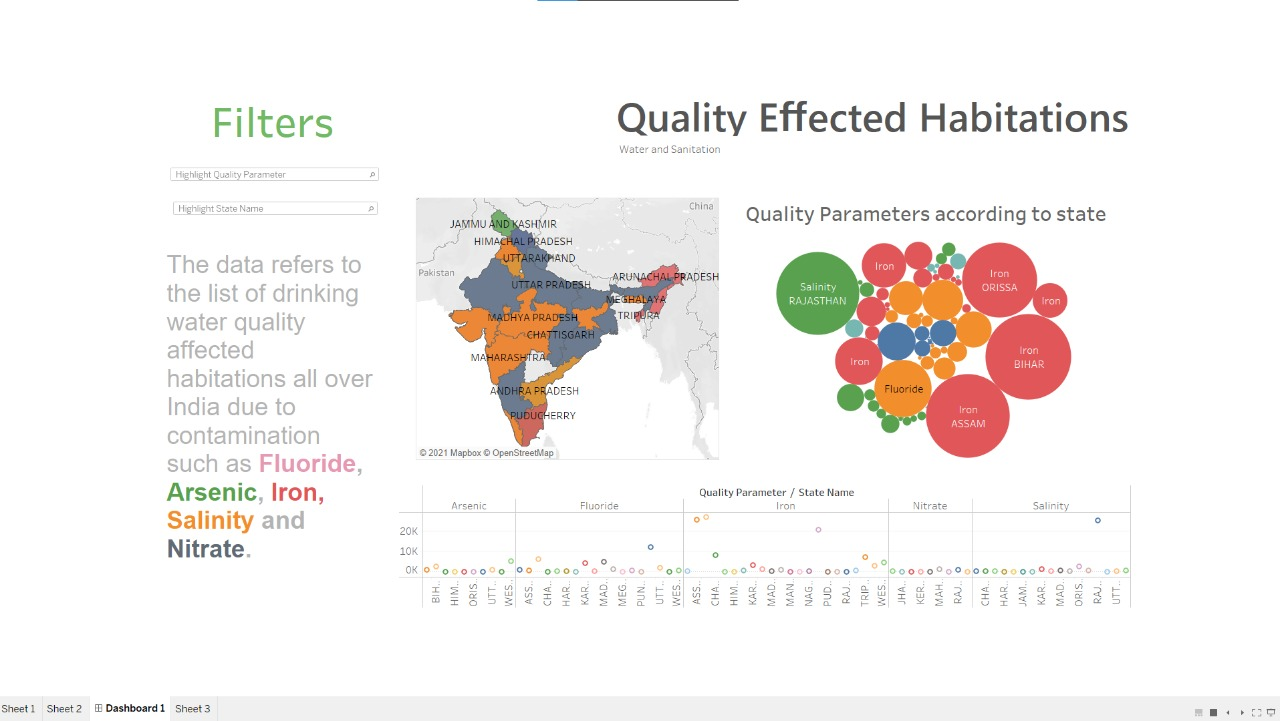

The page's visual inventory and layout, read from the dashboard file:
{"tool":"tableau","page":{"name":"Dashboard 1","canvas":[1500,800],"ordinal":0},"visuals":[{"type":"worksheet","box":[0,0,1500,800]},{"type":"worksheet","param":"horz","box":[8,8,1484,784]},{"type":"worksheet","param":"horz","box":[8,8,1484,784]},{"type":"worksheet","param":"horz","box":[8,8,1484,784]},{"type":"worksheet","box":[8,8,1484,784]},{"type":"worksheet","box":[38,19,330,758]},{"type":"worksheet","box":[413,20,1074,63]},{"type":"worksheet","box":[40,28,326,64]},{"type":"worksheet","box":[718,86,164,32]},{"type":"worksheet","title":"Sheet 1","mark":"Multipolygon","param":"[federated.176jdgx1gr8fd319z43dm00td251].[none:Quality Parameter:nk]","box":[47,105,318,71]},{"type":"worksheet","title":"Sheet 1","mark":"Multipolygon","param":"[federated.176jdgx1gr8fd319z43dm00td251].[none:State Name:nk]","box":[51,156,312,50]},{"type":"worksheet","title":"Sheet 1","mark":"Multipolygon","box":[417,160,454,408]},{"type":"worksheet","box":[907,176,563,43]},{"type":"worksheet","title":"Sheet 2","mark":"Circle","box":[888,225,578,340]},{"type":"worksheet","box":[41,253,318,476]},{"type":"worksheet","title":"Sheet 3","mark":"Shape","cols":["Quality Parameter","State Name"],"box":[392,591,1095,199]}]}

Visuals, with their boxes on the page's 1500x800 design canvas (x1, y1, x2, y2). These are canvas units, not pixel positions in the 1280x721 screenshot, which may show the page scaled, cropped or inside an application window:
worksheet: locate(0, 0, 1500, 800)
worksheet: locate(8, 8, 1492, 792)
worksheet: locate(8, 8, 1492, 792)
worksheet: locate(8, 8, 1492, 792)
worksheet: locate(8, 8, 1492, 792)
worksheet: locate(38, 19, 368, 777)
worksheet: locate(413, 20, 1487, 83)
worksheet: locate(40, 28, 366, 92)
worksheet: locate(718, 86, 882, 118)
"Sheet 1" worksheet (Multipolygon marks): locate(47, 105, 365, 176)
"Sheet 1" worksheet (Multipolygon marks): locate(51, 156, 363, 206)
"Sheet 1" worksheet (Multipolygon marks): locate(417, 160, 871, 568)
worksheet: locate(907, 176, 1470, 219)
"Sheet 2" worksheet (Circle marks): locate(888, 225, 1466, 565)
worksheet: locate(41, 253, 359, 729)
"Sheet 3" worksheet (Shape marks): locate(392, 591, 1487, 790)
